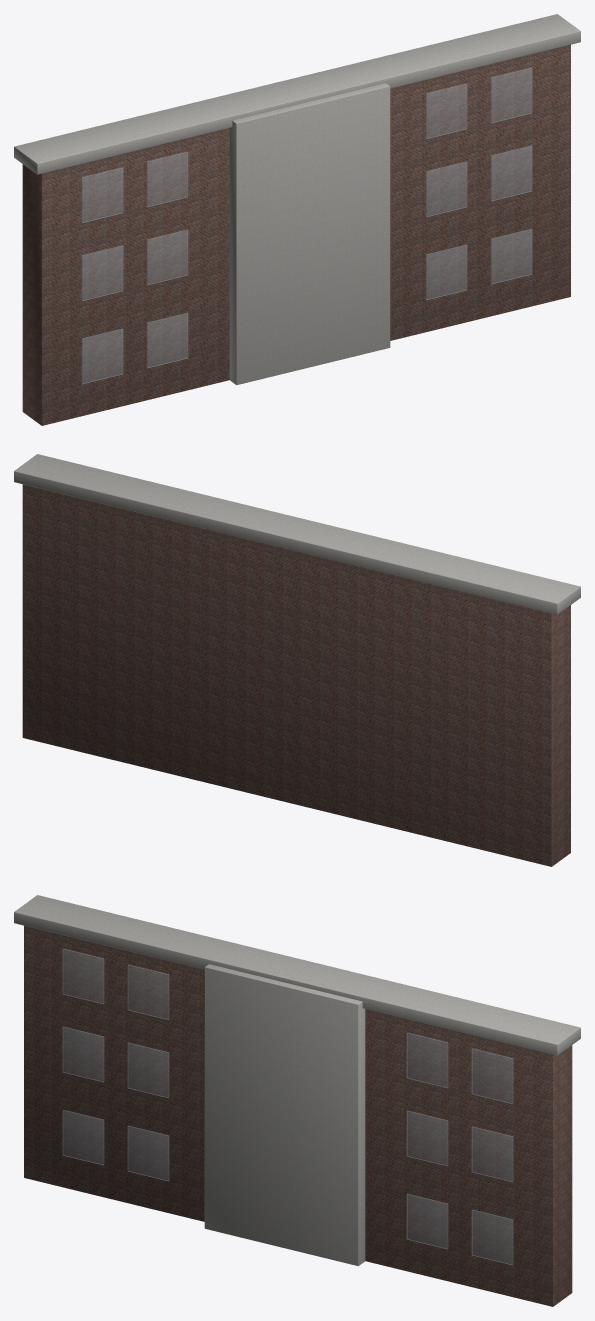
Rendered from campus-facade-703351de73ff.glb.
3 renders of one model, top to bottom at view 1: azimuth 30°, elevation 25°; view 2: azimuth 150°, elevation 25°; view 3: azimuth 330°, elevation 25°, orthographic.
Parts seen in each view (by area): view 1: Facade_Core, Mesh_Campus_Stone, Mesh_Clear_Glass; view 2: Facade_Core, Mesh_Campus_Stone; view 3: Facade_Core, Mesh_Campus_Stone, Mesh_Clear_Glass.
Boxes of the visible parts, x1=… form: Facade_Core: x1=22, y1=44, x2=570, y2=425; Mesh_Campus_Stone: x1=14, y1=14, x2=580, y2=385; Mesh_Clear_Glass: x1=82, y1=68, x2=532, y2=384; Facade_Core: x1=22, y1=484, x2=570, y2=866; Mesh_Campus_Stone: x1=14, y1=454, x2=580, y2=614; Facade_Core: x1=24, y1=925, x2=572, y2=1306; Mesh_Campus_Stone: x1=14, y1=895, x2=580, y2=1266; Mesh_Clear_Glass: x1=62, y1=949, x2=512, y2=1265.
Bounding box in the file's own units: 22.6 × 10.58 × 2.
Materials: 3 (2 with a texture image).
